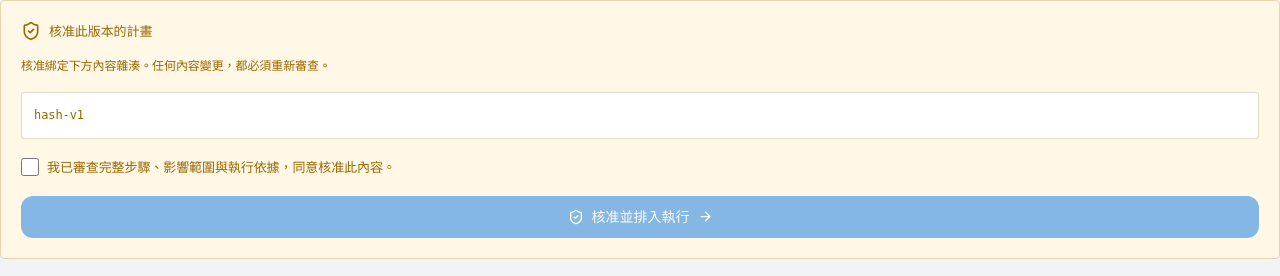
Scenario: reviewed-content approval › requires review acknowledgement and resets it when the content hash changes
This screenshot has width=1280, height=276.
Later steps or results of the test are not shown.
Expected: the button "核准並排入執行" is disabled, top-left (21, 196), bottom-right (1259, 238)
Click the checkbox at (30, 167), box top-left (21, 158), bottom-right (39, 176)
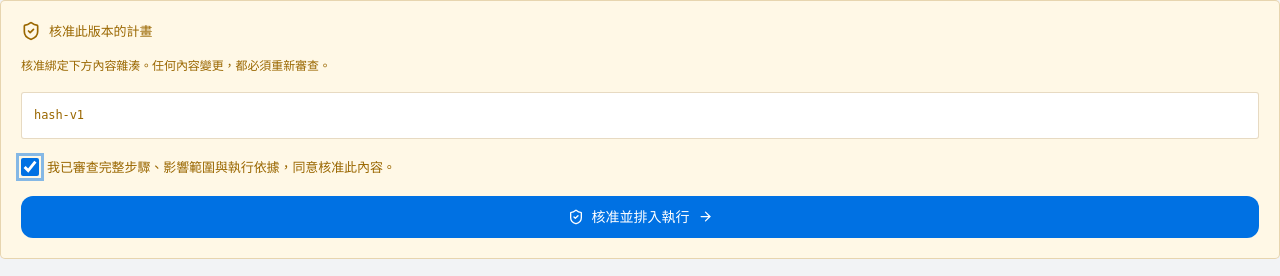
Expected: the button "核准並排入執行" is enabled, top-left (21, 196), bottom-right (1259, 238)
